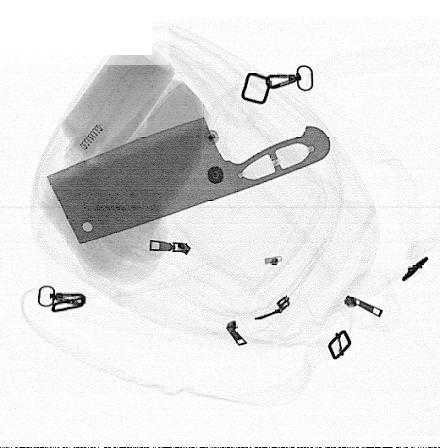Knife: (45, 116, 331, 245)
